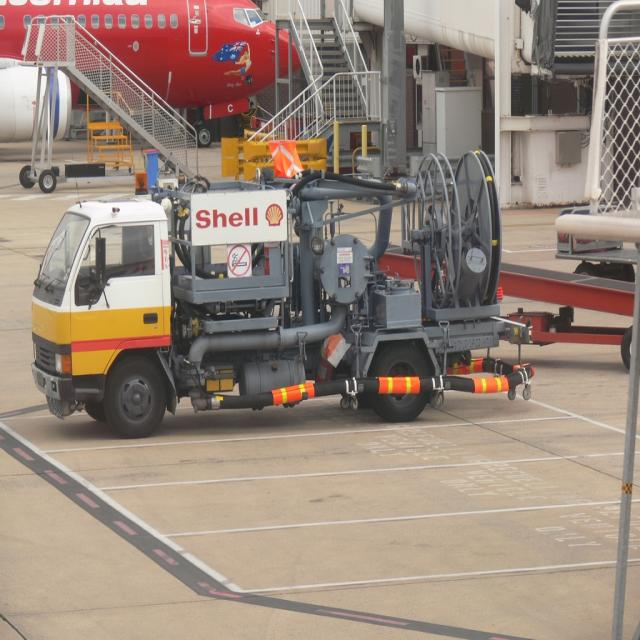shell: (267, 204, 285, 228)
